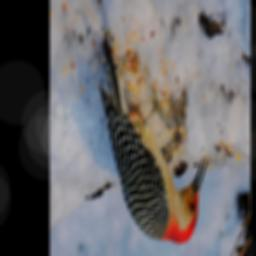Woodpecker: (96, 26, 207, 245)
